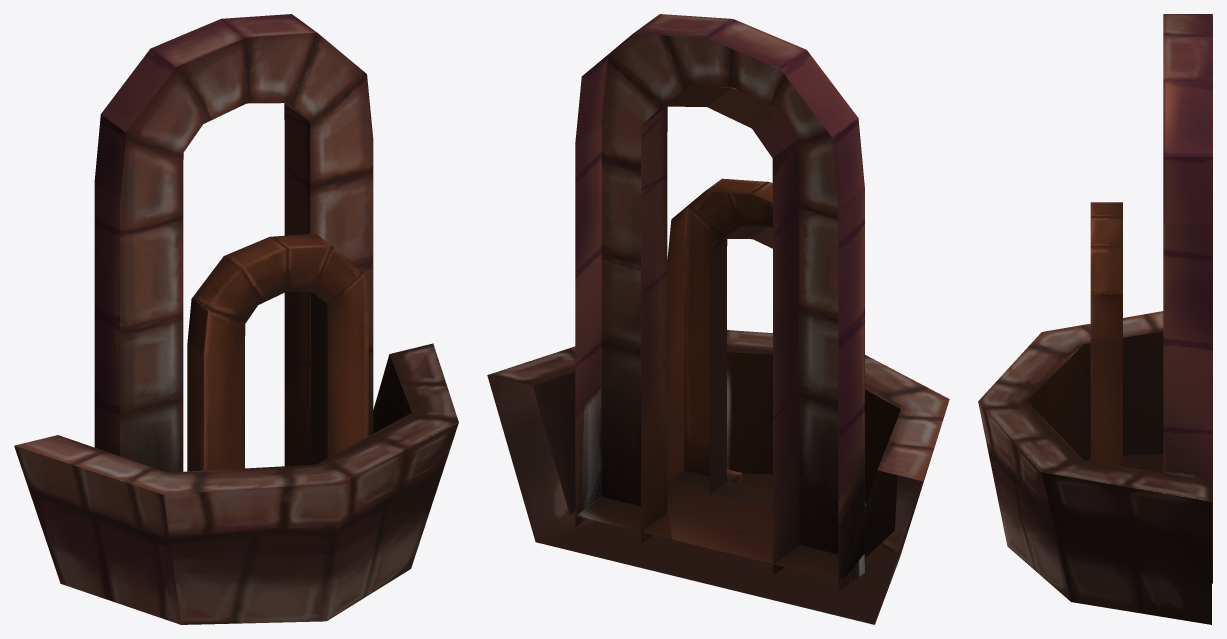
File: Obj_ventana.fbx
3 views of the same model, side by side, from view 1: azimuth 30°, elevation 25°; view 2: azimuth 150°, elevation 25°; view 3: azimuth 270°, elevation 25° (orthographic). The views are drawn at different scales.
Visible parts, largest first — view 1: Obj_ventana_terraza, Obj_ventana_1; view 2: Obj_ventana_terraza, Obj_ventana_1; view 3: Obj_ventana_terraza, Obj_ventana_1.
Boxes of the visible parts, <box> form: Obj_ventana_terraza: <box>14,14,458,624</box>; Obj_ventana_1: <box>187,233,368,471</box>; Obj_ventana_terraza: <box>487,14,949,624</box>; Obj_ventana_1: <box>667,178,865,508</box>; Obj_ventana_terraza: <box>978,14,1212,624</box>; Obj_ventana_1: <box>1090,202,1122,466</box>.
Size of the model in its own units: 1.78 by 2.13 by 0.8863.
